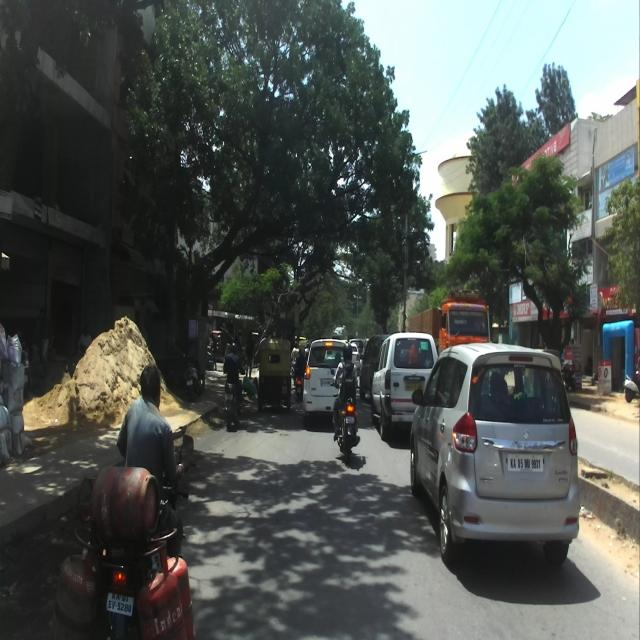Car_Chevrolet: (369, 331, 439, 441)
Car_Maruti-Suzuki: (409, 341, 581, 565)
motorcycle: (329, 368, 360, 466)
motorcycle_TVS: (49, 432, 195, 636)
